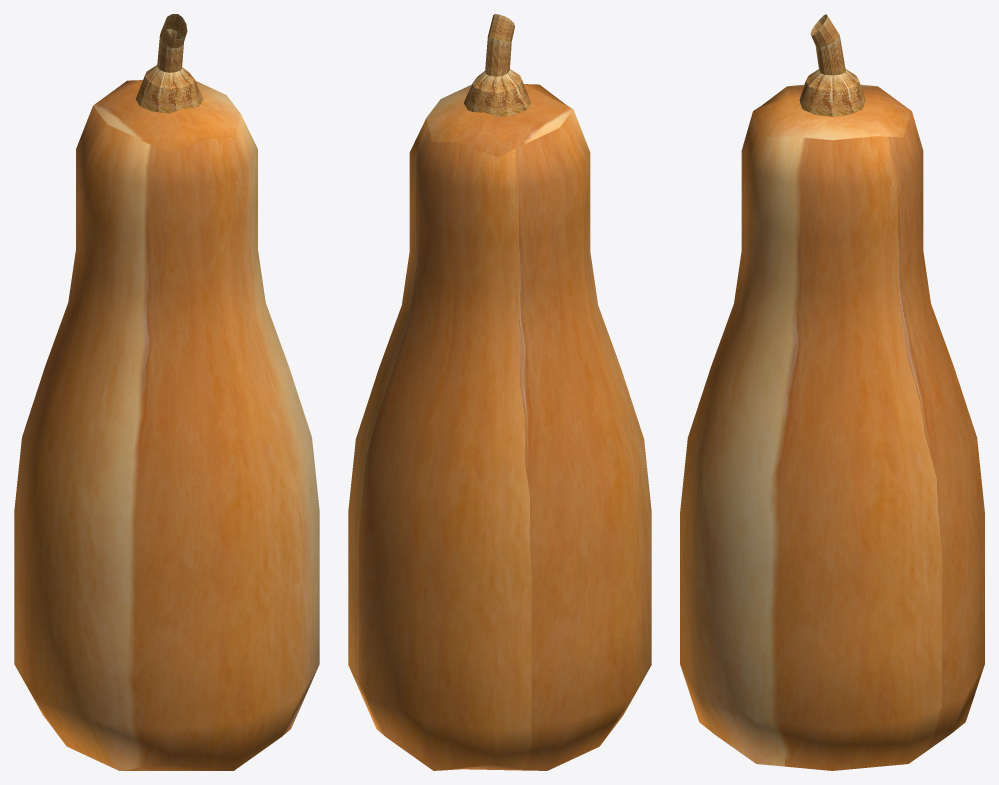
File: butternut squash.fbx
3 renders of one model, left to right at view 1: azimuth 30°, elevation 25°; view 2: azimuth 150°, elevation 25°; view 3: azimuth 270°, elevation 25°, orthographic.
Parts seen in each view (by area): view 1: butternutsquash, butternutstem; view 2: butternutsquash, butternutstem; view 3: butternutsquash, butternutstem.
Part boxes in pixels (x1,y1,x2,y2): butternutsquash: [14, 80, 319, 770]; butternutstem: [136, 14, 203, 113]; butternutsquash: [348, 84, 651, 770]; butternutstem: [464, 14, 530, 116]; butternutsquash: [680, 84, 984, 770]; butternutstem: [799, 14, 865, 116].
Size of the model in its own units: 0.9431 by 2.46 by 0.9335.
